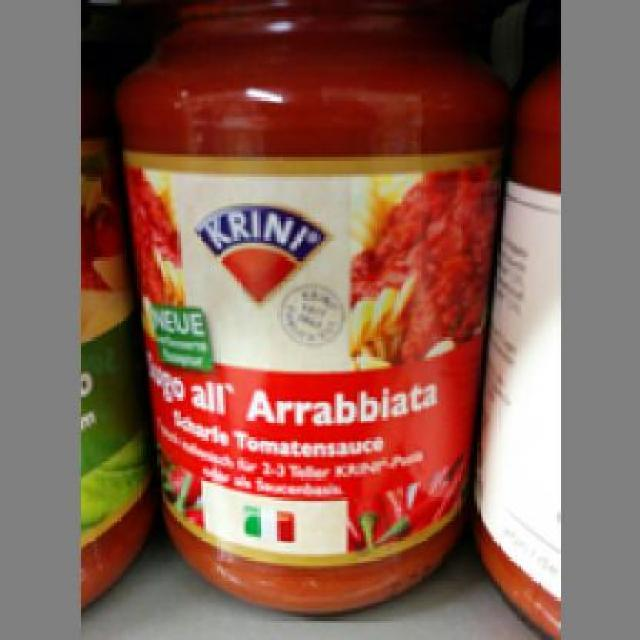Tomato Sauce: (106, 0, 503, 617)
